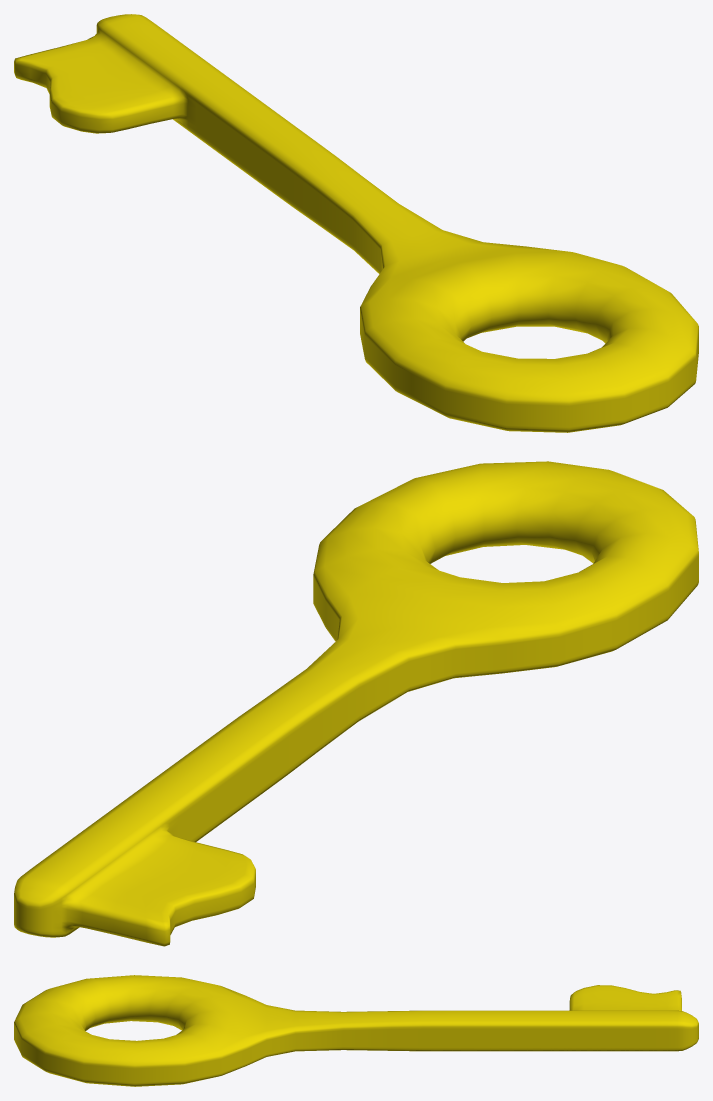
The model's file is Llave.glb.
3 renders of one model, top to bottom at view 1: azimuth 30°, elevation 25°; view 2: azimuth 150°, elevation 25°; view 3: azimuth 270°, elevation 25°, orthographic. The views are drawn at different scales.
Visible parts, largest first — view 1: llave; view 2: llave; view 3: llave.
Part boxes in pixels (x1,y1,x2,y2): llave: (14,14,698,432); llave: (14,461,698,946); llave: (14,975,698,1086).
Bounding box in the file's own units: 0.8835 × 0.1785 × 2.85.
